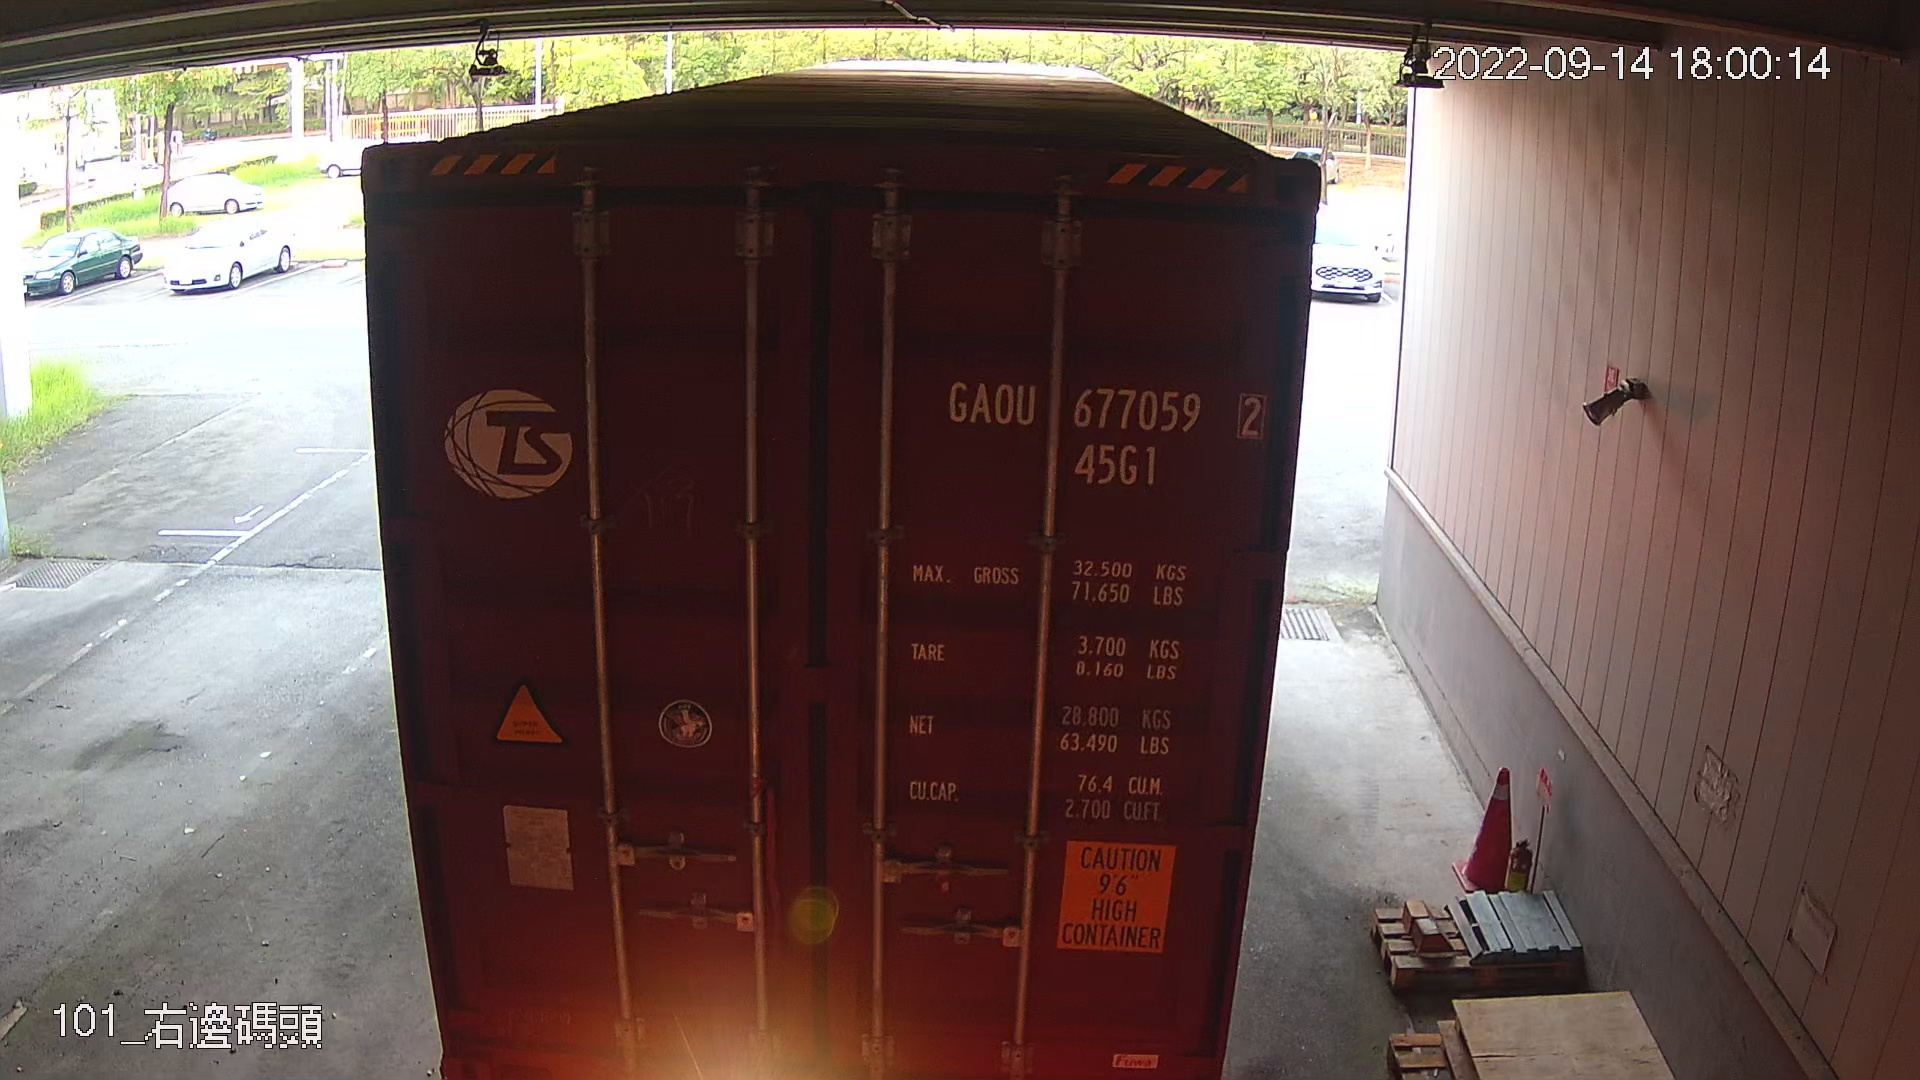container: (934, 357, 1273, 495)
